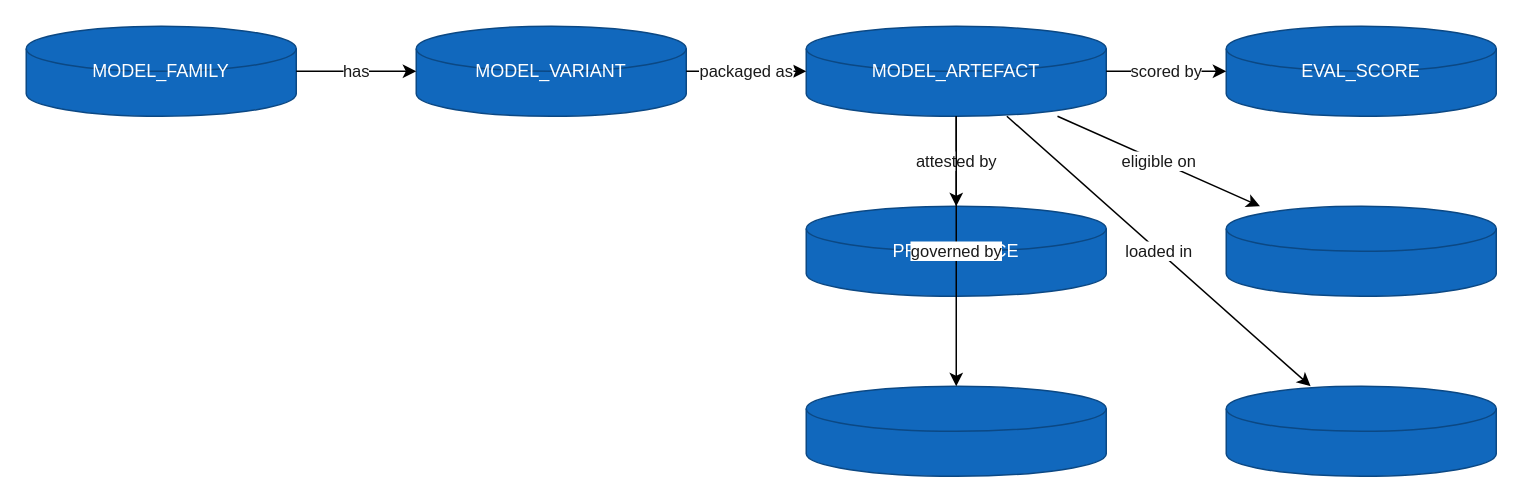
Image size: 1523x503. Some labels were removed from this diagram. The centre of each missing label's shape, as x and y in pixels:
"HW_PROFILE" goes at (1360,250).
"LICENCE" goes at (955,430).
"LOAD_EVENT" goes at (1360,430).
